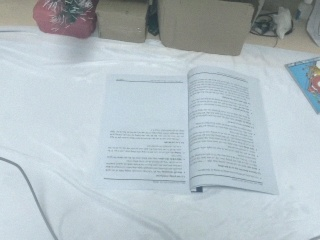book: (283, 53, 320, 127)
box: (155, 1, 258, 58), (94, 1, 149, 44)
